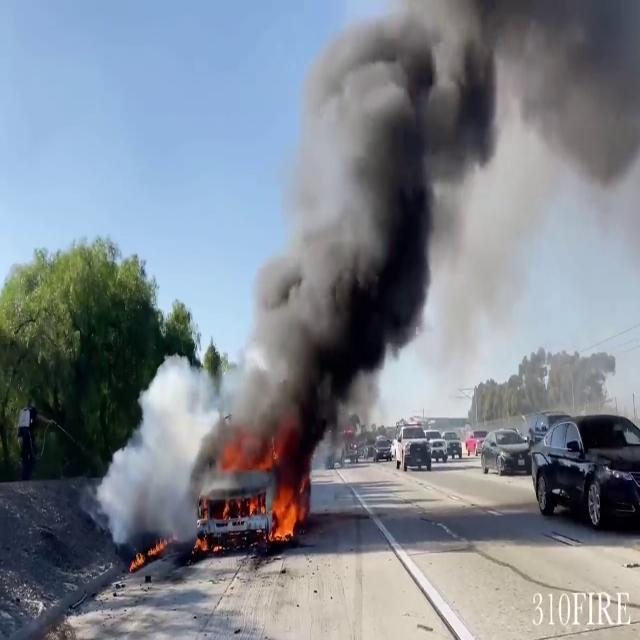Fire: (264, 472, 306, 543)
Smoke: (253, 0, 512, 467), (500, 0, 640, 392), (102, 344, 248, 559)
